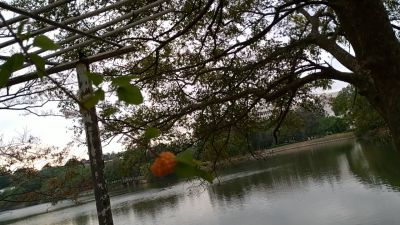eggs: (151, 152, 179, 178)
